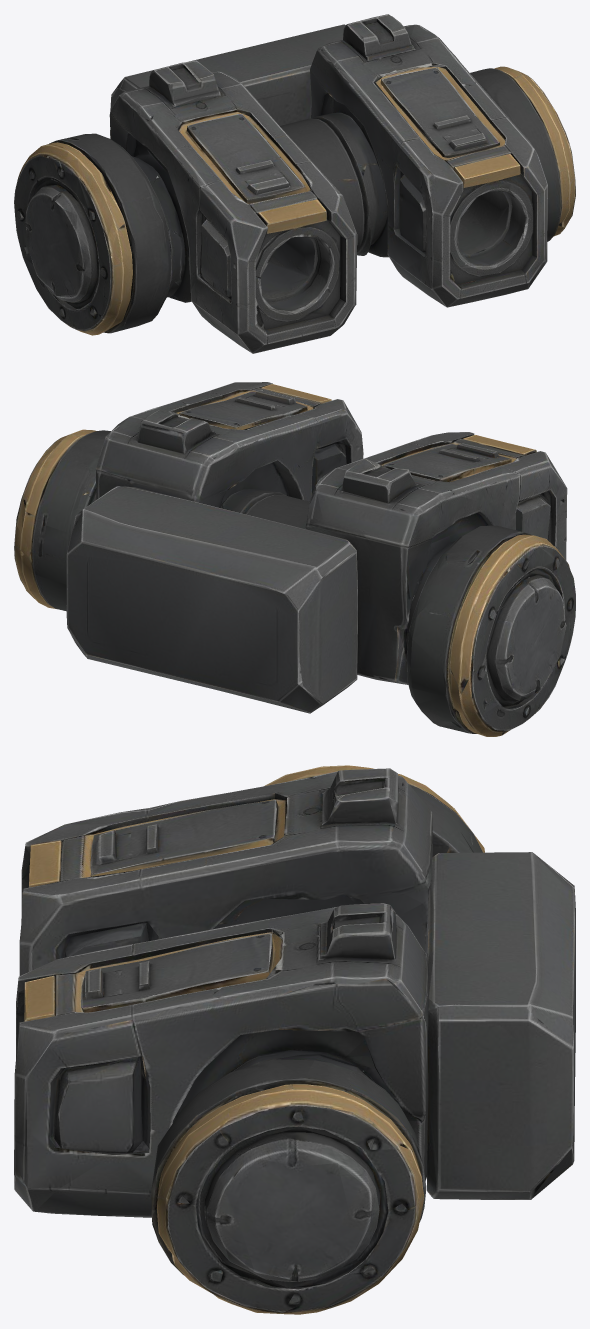
The model's file is imperial_point_defence_turret__cradle.glb.
The picture shows the model from 3 angles, top to bottom: view 1: azimuth 30°, elevation 25°; view 2: azimuth 150°, elevation 25°; view 3: azimuth 270°, elevation 25°; orthographic projection. The views are drawn at different scales.
Parts seen in each view (by area): view 1: mesh_node; view 2: mesh_node; view 3: mesh_node.
Part boxes in pixels (left/top/right/bottom): mesh_node: left=14, top=14, right=575, bottom=353; mesh_node: left=14, top=382, right=575, bottom=736; mesh_node: left=14, top=765, right=575, bottom=1314.
Bounding box in the file's own units: 3.54 × 1.56 × 2.53.
1 material, 1 textured.
